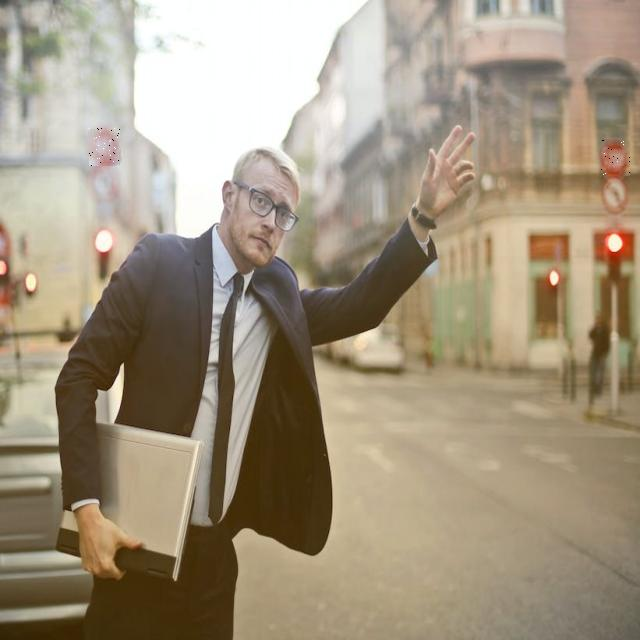stop: (89, 128, 121, 166), (599, 140, 630, 176)
